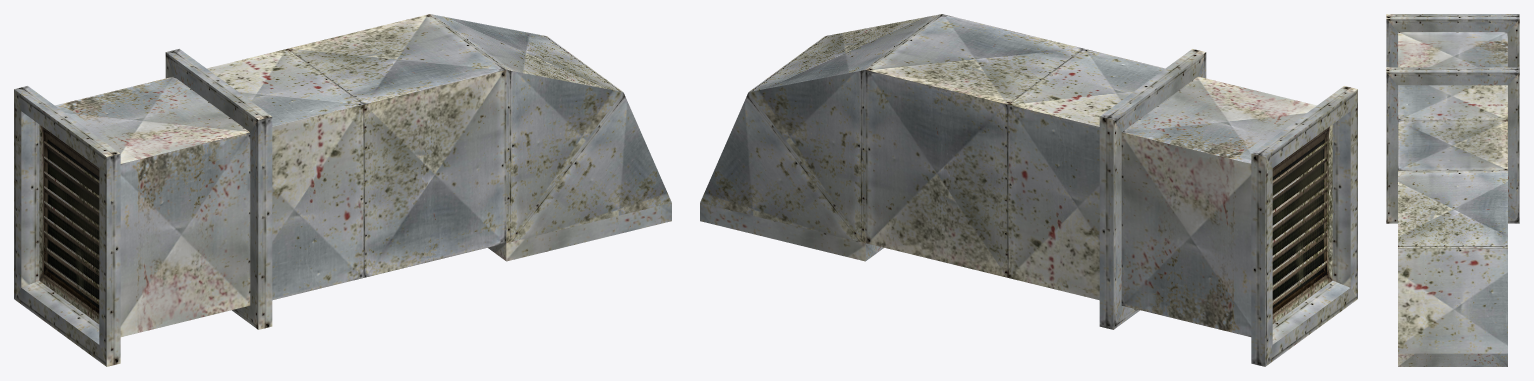
Rendered from vent_01.fbx.
3 renders of one model, left to right at view 1: azimuth 30°, elevation 25°; view 2: azimuth 150°, elevation 25°; view 3: azimuth 270°, elevation 25°, orthographic. The views are drawn at different scales.
Visible parts, largest first — view 1: vent_01; view 2: vent_01; view 3: vent_01.
Boxes of the visible parts, bbox=[...] form: vent_01: bbox=[14, 14, 671, 366]; vent_01: bbox=[700, 14, 1357, 366]; vent_01: bbox=[1386, 14, 1519, 366].
Bounding box in the file's own units: 2.82 × 0.9881 × 0.7905.
